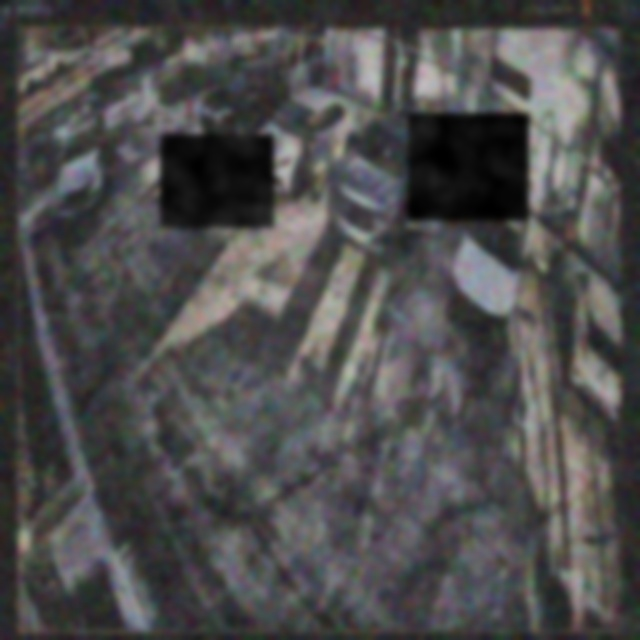Car: (327, 98, 451, 272), (451, 159, 532, 348), (247, 91, 360, 192), (205, 57, 292, 150)
